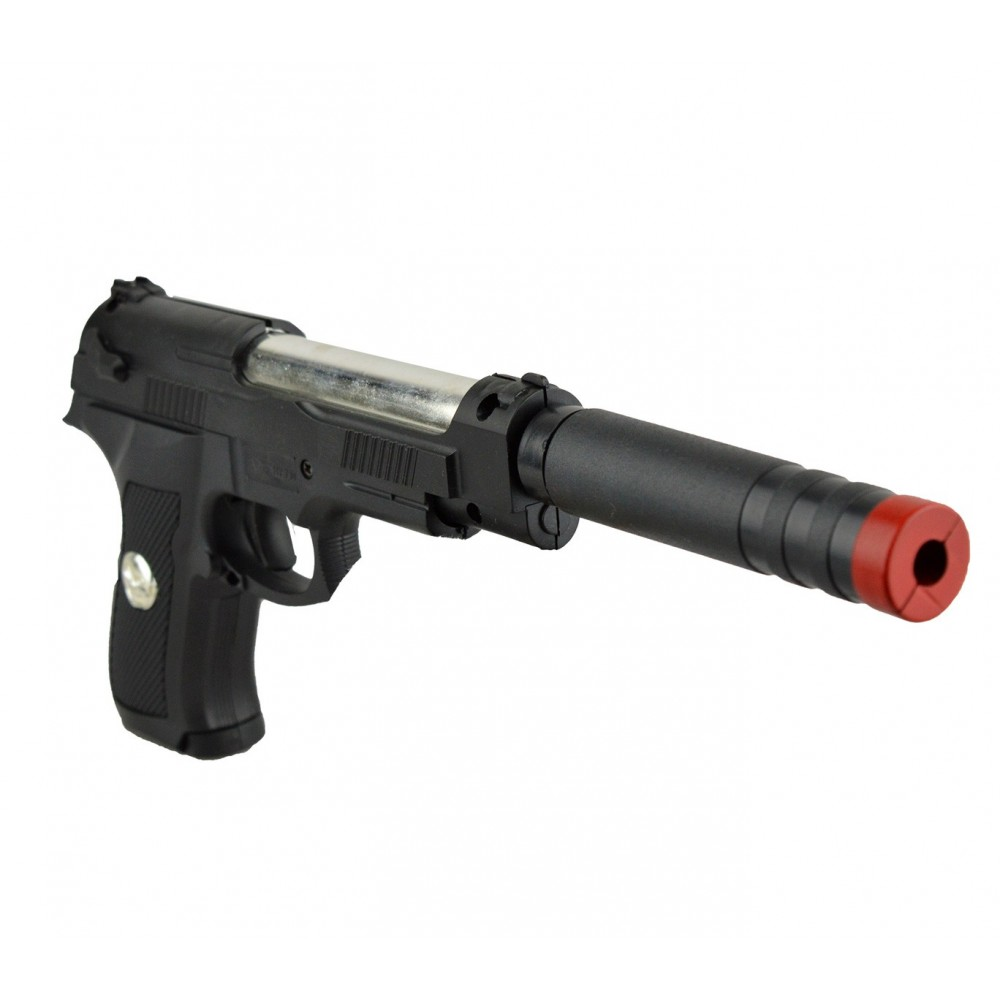Arma Falsa: (66, 269, 969, 771)
